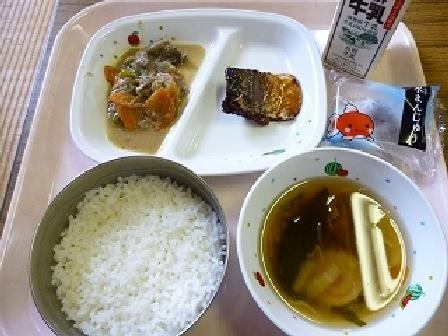Fish: (220, 60, 303, 130)
Milk: (249, 154, 443, 332)
Rice: (42, 166, 224, 331)
Soups: (428, 324, 434, 330)
cooked food meat with vegetables: (98, 36, 190, 127)
